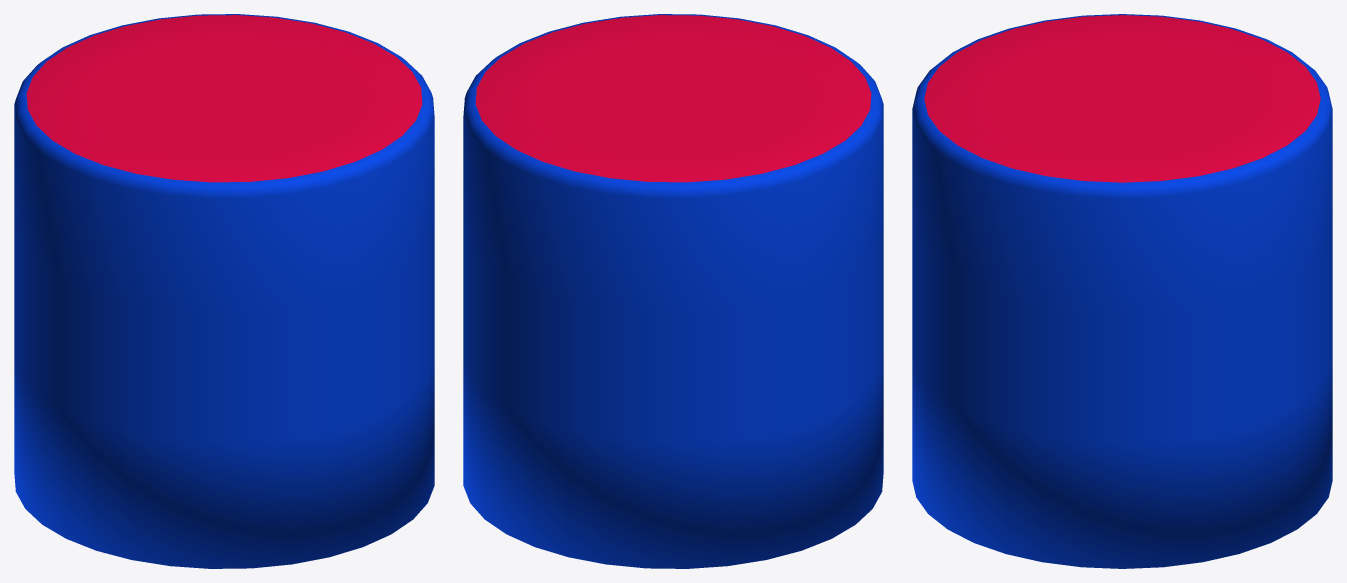
File: TreeTrump.fbx
3 renders of one model, left to right at view 1: azimuth 30°, elevation 25°; view 2: azimuth 150°, elevation 25°; view 3: azimuth 270°, elevation 25°, orthographic.
Visible parts, largest first — view 1: Treestump; view 2: Treestump; view 3: Treestump.
Part boxes in pixels (box(x1,y1,x2,y2)): Treestump: box(14, 14, 434, 568); Treestump: box(463, 14, 883, 568); Treestump: box(912, 14, 1332, 568).
Size of the model in its own units: 0.5822 by 0.5822 by 0.5822.
